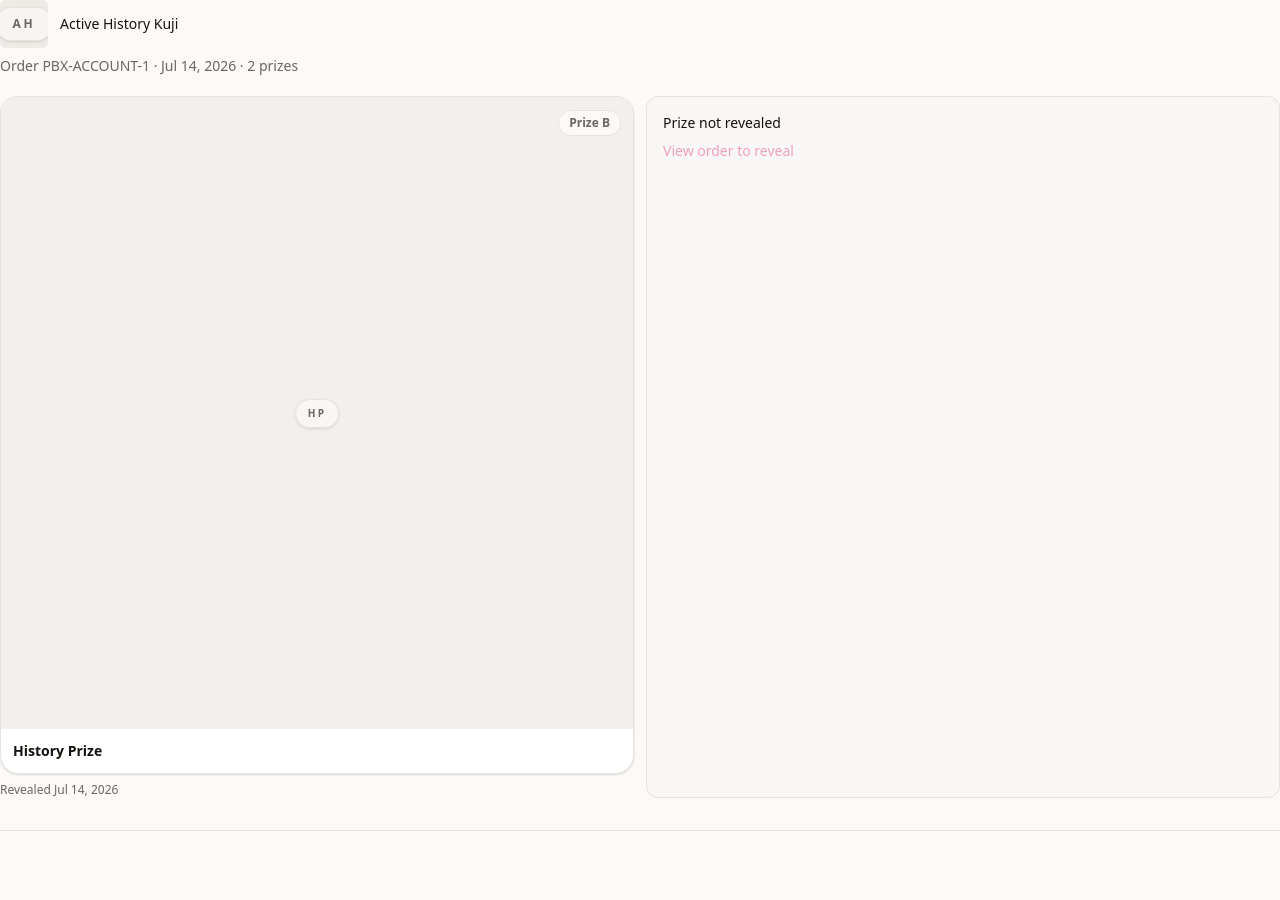
Test: Kuji History › uses prize language, active product links, and the shared prize dialog
The image size is (1280, 900).
Click the button "HP Prize B History Prize": (317,733) [0, 96, 634, 774]
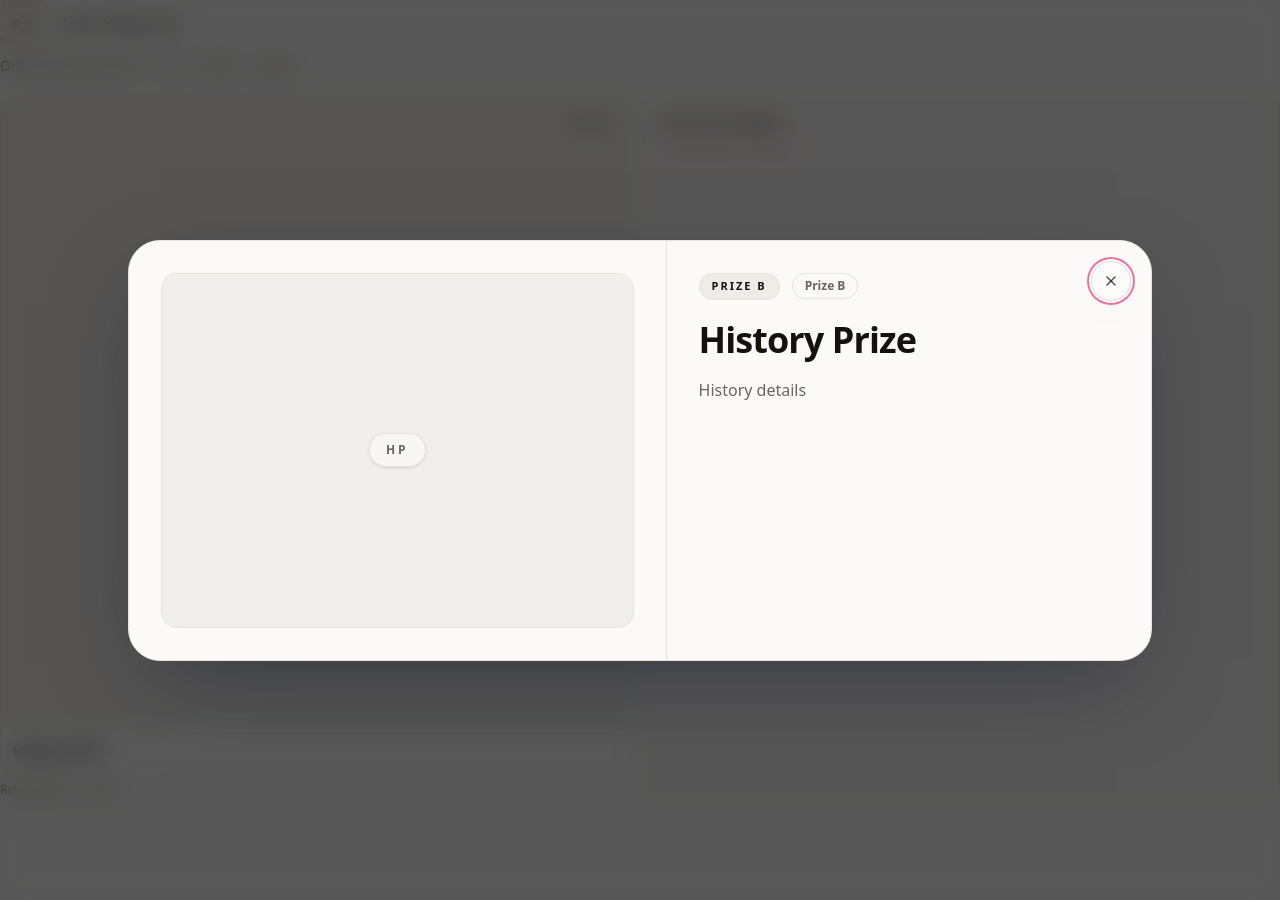
Expected: the dialog shows "History details", [698, 378, 806, 400]
